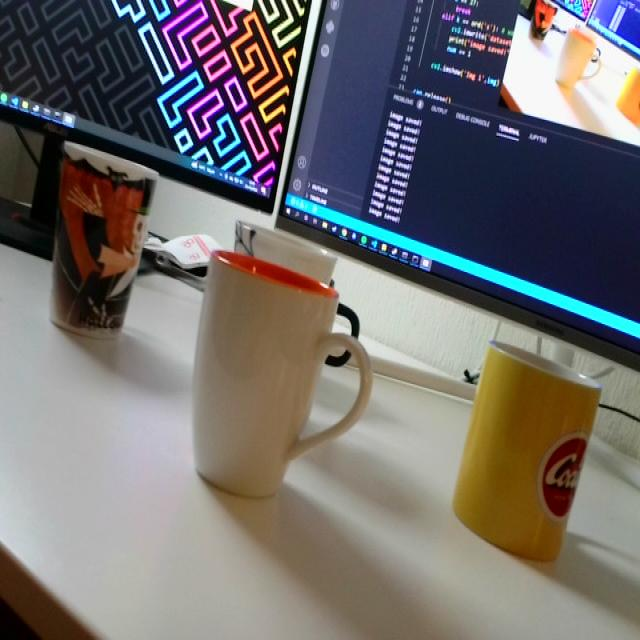Cocio Cup: (451, 337, 607, 564)
Halloween cup: (53, 152, 157, 335)
White Cup: (190, 250, 375, 499)
